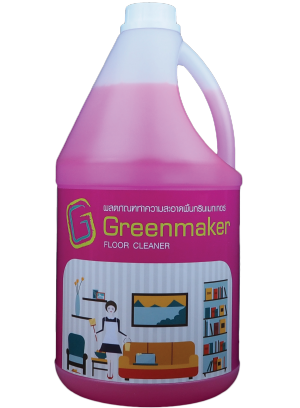Cleaning_solution: (52, 1, 246, 408)
